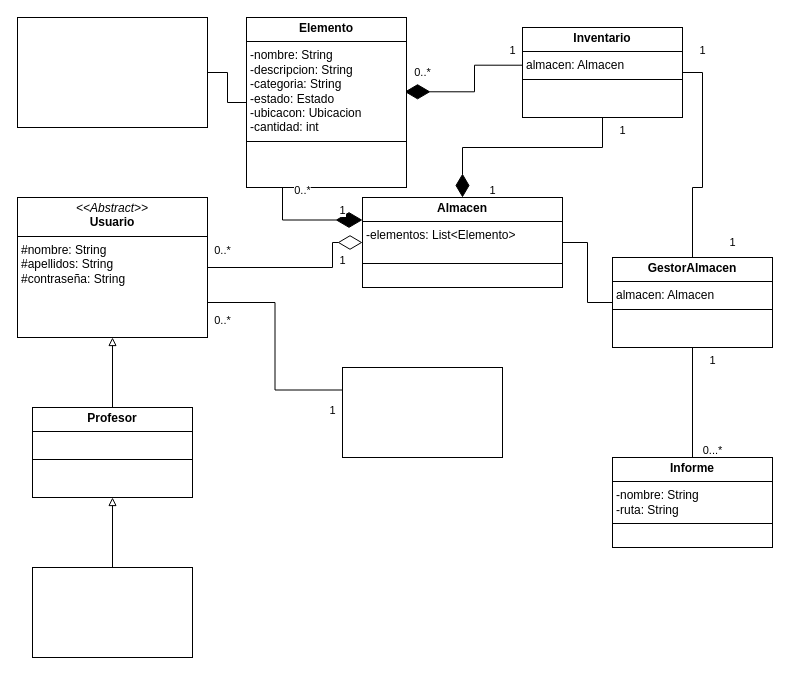
Some shapes in this 790 by 675 pixel diagram are drawn without their labels. The shapes that lost their labels are listed below. From the top down, each one's centre as x and y in pixels, then its label:
pixel 112 72: <<Enum>> Estado DISPONIBLE PRESTADO EN_REPARACION BAJA
pixel 422 412: GestorUsuarios -usuarios: Set<Usuario>
pixel 112 612: Administrador
